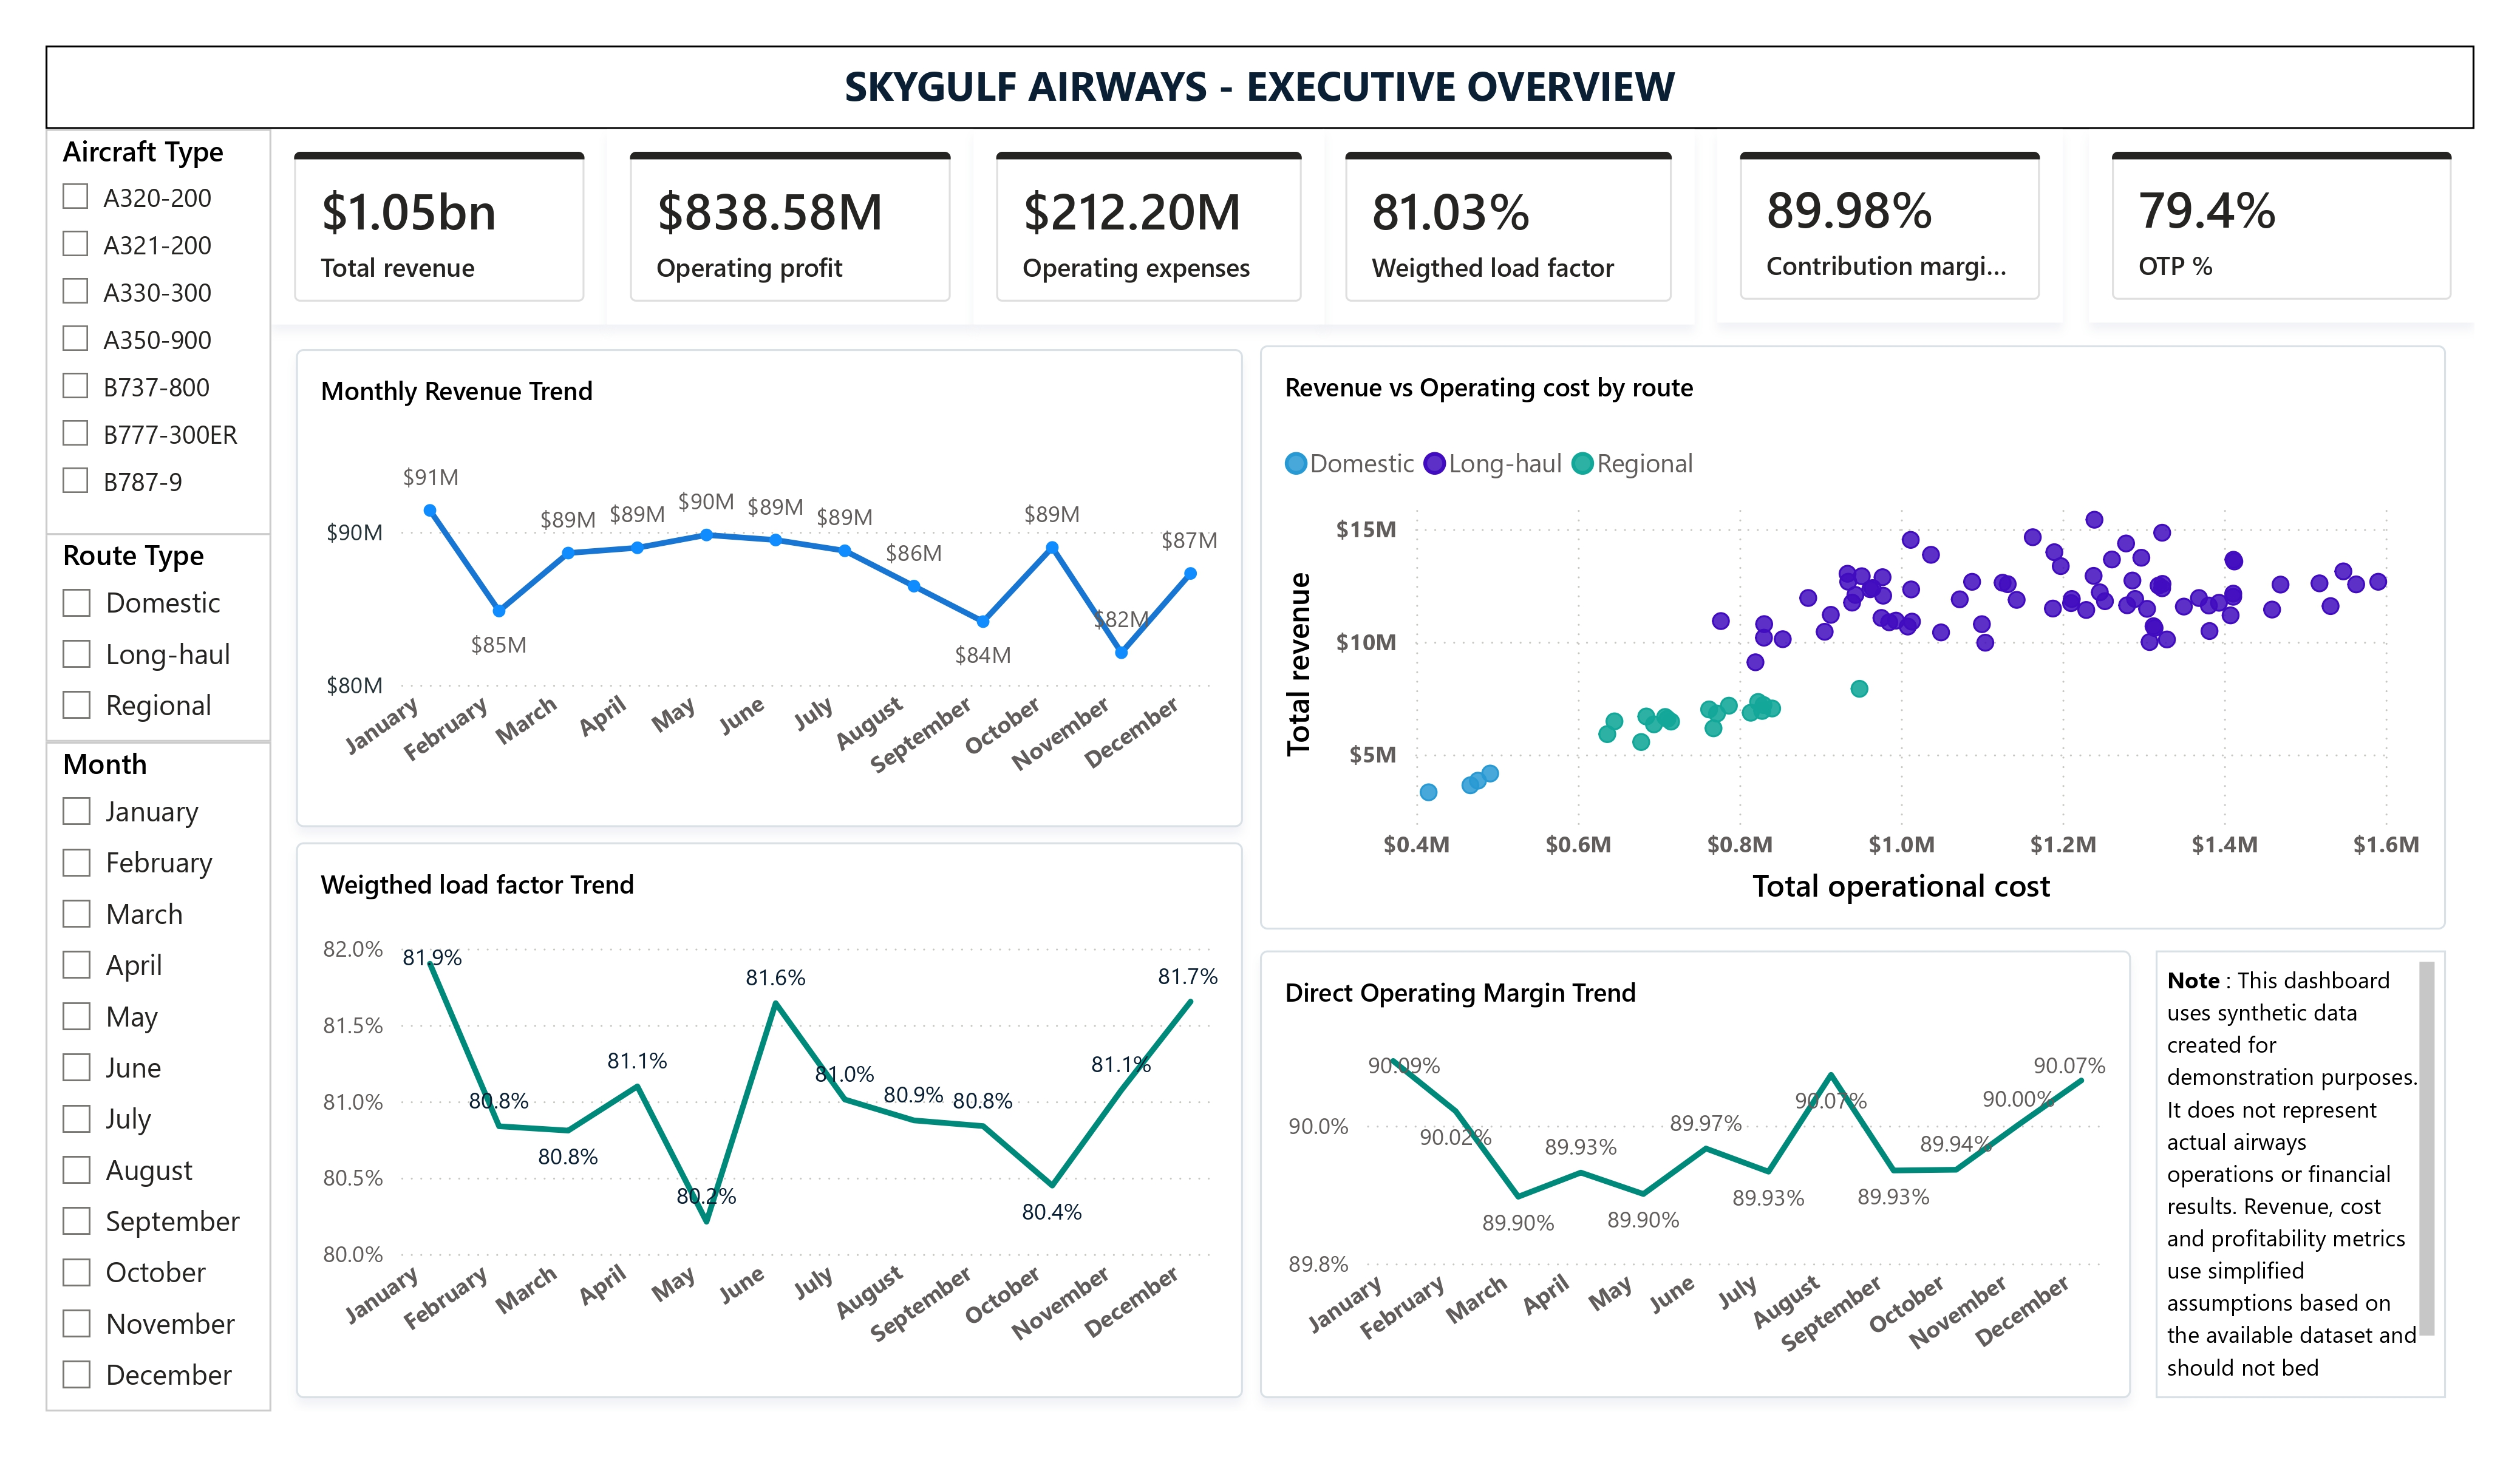

Layout of this report page (visuals, bound fields, positions):
{"tool":"powerbi","page":{"name":"Page 1","canvas":[1280,720],"ordinal":0},"visuals":[{"type":"textbox","box":[0,0,1280,43.8],"z":0},{"type":"cardVisual","fields":{"Data":["Flights.Total revenue"]},"box":[119.1,43.9,177.3,103],"z":1000},{"type":"cardVisual","fields":{"Data":["Flights.Total profit"]},"box":[296.4,43.9,192.5,103],"z":2000},{"type":"cardVisual","fields":{"Data":["Flights.Weigthed load factor"]},"box":[673.2,43.6,195.5,103.1],"z":3000},{"type":"cardVisual","fields":{"Data":["Flights.Contribution margin %"]},"box":[881,43.6,182.1,102.9],"z":4000},{"type":"cardVisual","fields":{"Data":["Flights.OTP %"]},"box":[1077.4,43.6,202.7,102.7],"z":5000},{"type":"cardVisual","title":"Operating cost","fields":{"Data":["Flights.Total expenses"]},"box":[489,43.9,184.9,102.9],"z":6000},{"type":"lineChart","title":"Monthly Revenue Trend","fields":{"Category":["Flights.flight_date.Variation.Date Hierarchy.Month","Flights.flight_date.Variation.Date Hierarchy.Day"],"Y":["Flights.Total revenue"]},"box":[131.8,160,499.1,251.8],"z":7000},{"type":"slicer","fields":{"Values":["Routes.route_type"]},"box":[0,257.3,119.1,110],"z":8000},{"type":"slicer","fields":{"Values":["Flights.flight_date.Variation.Date Hierarchy.Month"]},"box":[0,367.3,119.1,352.7],"z":9000},{"type":"slicer","title":"Aircraft","fields":{"Values":["Aircraft.aircraft_type"]},"box":[0,43.8,118.7,214],"z":10000},{"type":"lineChart","title":"Weigthed load factor Trend","fields":{"Category":["Flights.flight_date.Variation.Date Hierarchy.Month","Flights.flight_date.Variation.Date Hierarchy.Day"],"Y":["Flights.Weigthed load factor"]},"box":[131.6,420,499.7,292.8],"z":11000},{"type":"scatterChart","title":"Revenue vs Operating cost by route","fields":{"Category":["Routes.Flight Route"],"Series":["Routes.route_type"],"X":["Flights.Total operational expenses"],"Y":["Flights.Total revenue"]},"box":[640,157.6,625.1,308.1],"z":12000},{"type":"textbox","box":[1112.2,477.3,153.1,235.5],"z":13000},{"type":"lineChart","title":"Direct Operating Margin Trend","fields":{"Category":["Flights.flight_date.Variation.Date Hierarchy.Month","Flights.flight_date.Variation.Date Hierarchy.Day"],"Y":["Flights.Contribution margin %"]},"box":[640.3,477.3,458.5,235.5],"z":14000}]}

Visuals, with their boxes on the page's 1280x720 design canvas (x1, y1, x2, y2). These are canvas units, not pixel positions in the 2520x1457 screenshot, which may show the page scaled, cropped or inside an application window:
textbox: 0, 0, 1280, 44
cardVisual - Flights.Total revenue: 119, 44, 296, 147
cardVisual - Flights.Total profit: 296, 44, 489, 147
cardVisual - Flights.Weigthed load factor: 673, 44, 869, 147
cardVisual - Flights.Contribution margin %: 881, 44, 1063, 146
cardVisual - Flights.OTP %: 1077, 44, 1280, 146
"Operating cost" cardVisual: 489, 44, 674, 147
"Monthly Revenue Trend" lineChart: 132, 160, 631, 412
slicer - Routes.route_type: 0, 257, 119, 367
slicer - Flights.flight_date.Variation.Date Hierarchy.Month: 0, 367, 119, 720
"Aircraft" slicer: 0, 44, 119, 258
"Weigthed load factor Trend" lineChart: 132, 420, 631, 713
"Revenue vs Operating cost by route" scatterChart: 640, 158, 1265, 466
textbox: 1112, 477, 1265, 713
"Direct Operating Margin Trend" lineChart: 640, 477, 1099, 713
